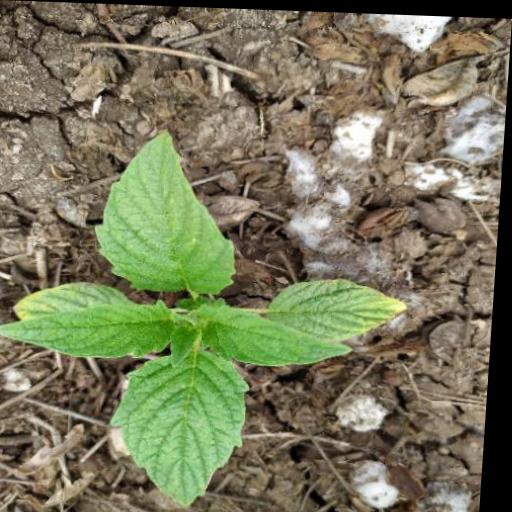crop: (0, 131, 429, 501)
